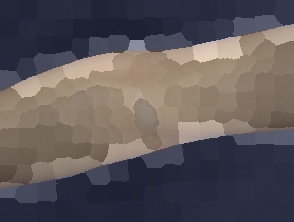vitiligo: (0, 21, 294, 192)
